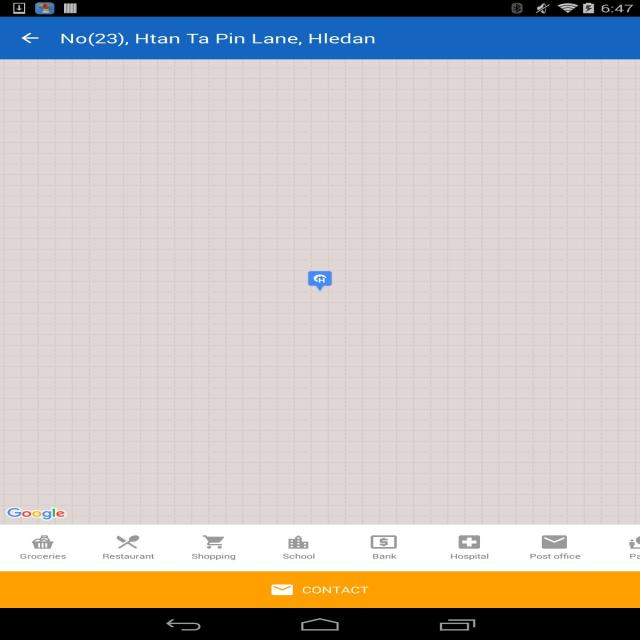button: (1, 572, 640, 608), (336, 524, 424, 571), (81, 526, 170, 572), (1, 523, 81, 571), (515, 526, 600, 571), (171, 524, 254, 570), (426, 526, 511, 570), (256, 526, 336, 572), (13, 30, 46, 48)
heading: (54, 31, 377, 51)
image: (0, 58, 640, 524)
